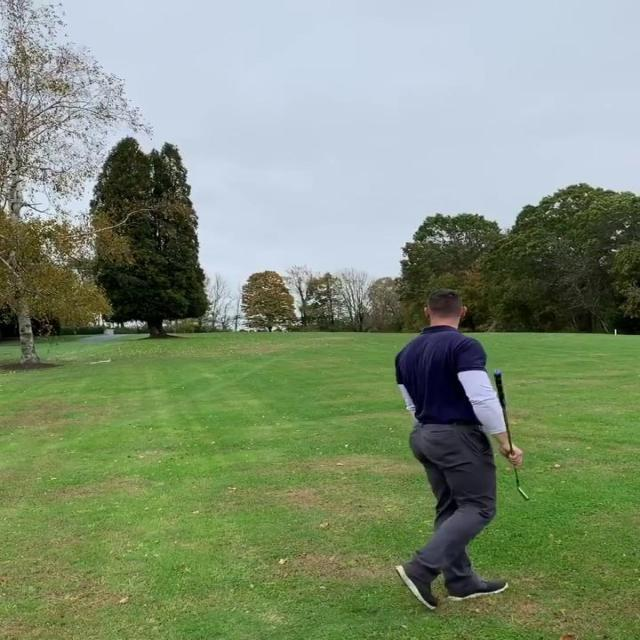golf club-handle: (494, 370, 530, 501)
golf club-head: (518, 487, 531, 501)
